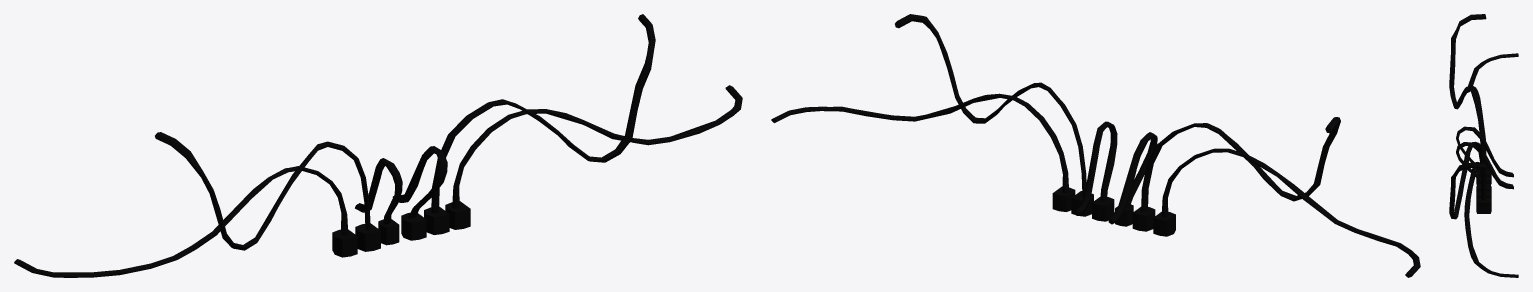
The model's file is powercords_combo_lod1.fbx.
3 views of the same model, side by side, from view 1: azimuth 30°, elevation 25°; view 2: azimuth 150°, elevation 25°; view 3: azimuth 270°, elevation 25° (orthographic). The views are drawn at different scales.
Parts seen in each view (by area): view 1: cord5, cord51, cord6, Duplicate02, cord4, cord40, plug3, plug6, plug5, plug2, plug1, plug4; view 2: cord51, Duplicate02, cord6, cord5, cord4, cord40, plug6, plug5, plug3, plug1; view 3: cord51, cord5, Duplicate02, cord40, cord4, cord6, plug1, plug5, plug2, plug3.
Boxes of the visible parts, left/top/right/bottom form: cord5: left=431, top=14, right=655, bottom=213; cord51: left=155, top=132, right=370, bottom=250; cord6: left=14, top=166, right=348, bottom=277; Duplicate02: left=452, top=85, right=742, bottom=208; cord4: left=392, top=146, right=447, bottom=218; cord40: left=355, top=158, right=402, bottom=224; plug3: left=401, top=212, right=426, bottom=240; plug6: left=332, top=229, right=357, bottom=257; plug5: left=355, top=223, right=380, bottom=251; plug2: left=424, top=206, right=449, bottom=234; plug1: left=445, top=201, right=470, bottom=229; plug4: left=378, top=219, right=399, bottom=245; cord51: left=1141, top=117, right=1340, bottom=211; Duplicate02: left=771, top=93, right=1068, bottom=193; cord6: left=1161, top=148, right=1420, bottom=277; cord5: left=895, top=14, right=1086, bottom=197; cord4: left=1075, top=121, right=1117, bottom=215; cord40: left=1108, top=132, right=1157, bottom=224; plug6: left=1153, top=211, right=1175, bottom=236; plug5: left=1132, top=207, right=1155, bottom=231; plug3: left=1092, top=196, right=1114, bottom=221; plug1: left=1052, top=186, right=1075, bottom=211; cord51: left=1449, top=14, right=1486, bottom=172; cord5: left=1449, top=141, right=1486, bottom=219; Duplicate02: left=1464, top=162, right=1518, bottom=277; cord40: left=1456, top=126, right=1513, bottom=177; cord4: left=1456, top=142, right=1513, bottom=189; cord6: left=1467, top=53, right=1518, bottom=154; plug1: left=1476, top=197, right=1491, bottom=213; plug5: left=1476, top=169, right=1491, bottom=184; plug2: left=1476, top=191, right=1491, bottom=199; plug3: left=1476, top=183, right=1491, bottom=193.
Bounding box in the file's own units: 5.17 × 1.13 × 0.6816.
